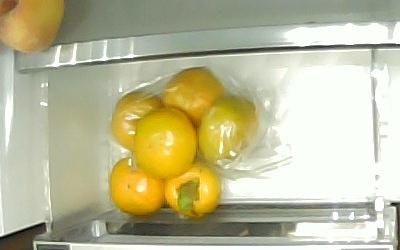persimmon: (108, 155, 165, 216), (164, 159, 221, 217)
persimmon_vinyl: (132, 105, 197, 178), (197, 95, 260, 166), (161, 66, 226, 128), (110, 90, 164, 152)
